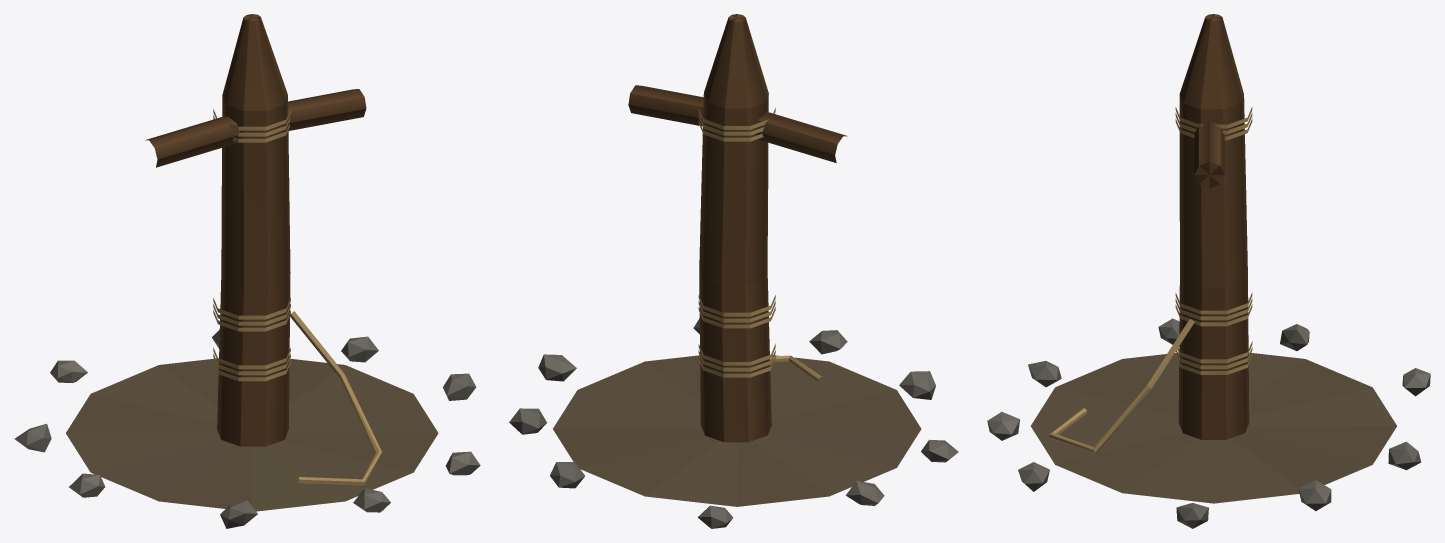
Rendered from captive_post.glb.
The picture shows the model from 3 angles, left to right: view 1: azimuth 30°, elevation 25°; view 2: azimuth 150°, elevation 25°; view 3: azimuth 270°, elevation 25°; orthographic projection.
Visible parts, largest first — view 1: captive_post_solid; view 2: captive_post_solid; view 3: captive_post_solid.
Boxes of the visible parts, x1=… form: captive_post_solid: x1=14, y1=14, x2=480, y2=528; captive_post_solid: x1=509, y1=14, x2=958, y2=528; captive_post_solid: x1=987, y1=14, x2=1430, y2=528.
Bounding box in the file's own units: 2.15 × 2.3 × 2.06.
